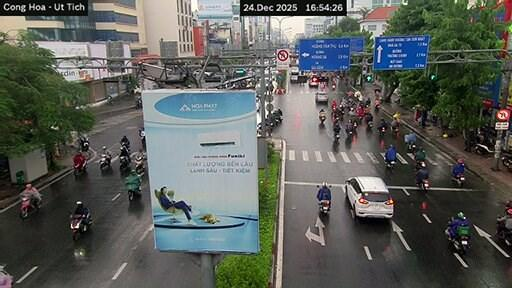motorbike: (448, 226, 469, 254), (20, 193, 42, 218), (70, 214, 91, 240), (496, 222, 511, 246), (474, 140, 495, 154), (0, 263, 12, 287), (125, 183, 140, 200), (73, 160, 87, 175), (135, 153, 144, 175), (99, 154, 110, 171), (451, 173, 464, 187), (501, 153, 511, 171), (78, 135, 89, 151), (271, 109, 282, 124), (318, 200, 329, 215), (119, 156, 129, 172), (417, 179, 429, 192), (139, 129, 145, 148), (120, 141, 130, 152), (407, 142, 416, 153), (135, 95, 142, 108), (319, 112, 326, 124), (386, 160, 395, 169), (346, 128, 354, 138), (379, 126, 386, 135), (333, 132, 339, 142), (392, 126, 398, 135), (353, 121, 357, 129), (331, 81, 335, 89), (375, 104, 379, 111)
